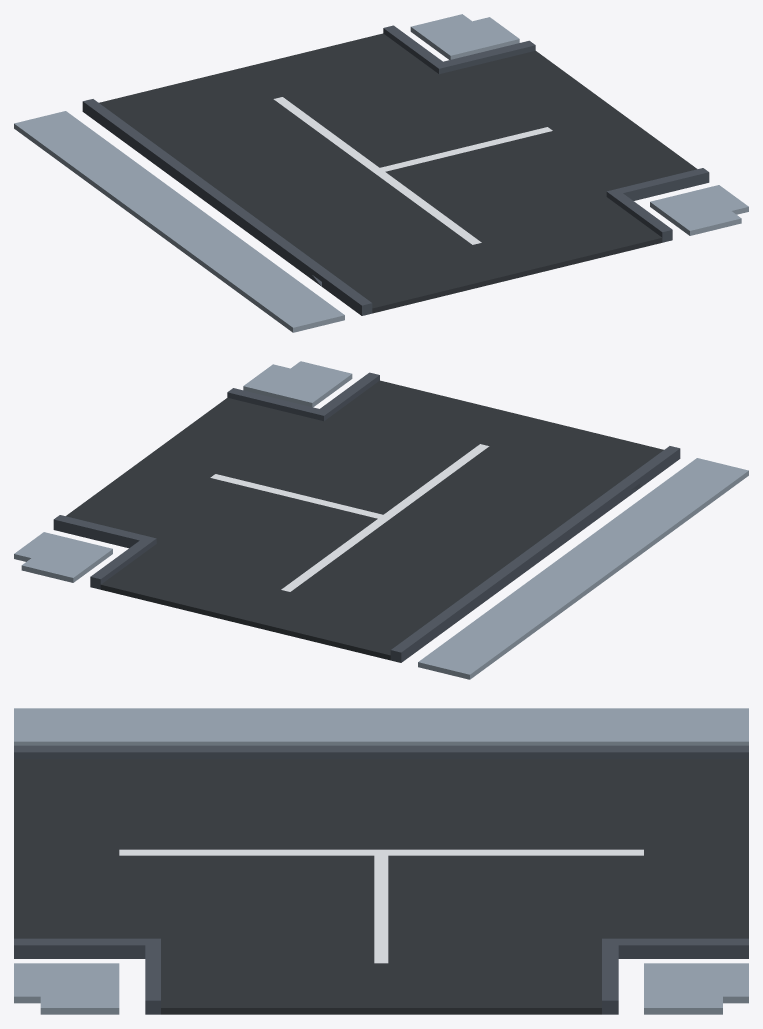
File: road3.glb
3 views of the same model, one above another, from view 1: azimuth 30°, elevation 25°; view 2: azimuth 150°, elevation 25°; view 3: azimuth 270°, elevation 25° (orthographic). The views are drawn at different scales.
Visible parts, largest first — view 1: jalan3; view 2: jalan3; view 3: jalan3.
Boxes of the visible parts, x1=… form: jalan3: x1=14, y1=14, x2=748, y2=332; jalan3: x1=14, y1=361, x2=748, y2=679; jalan3: x1=14, y1=708, x2=748, y2=1014.
Bounding box in the file's own units: 9.64 × 0.2073 × 10.
